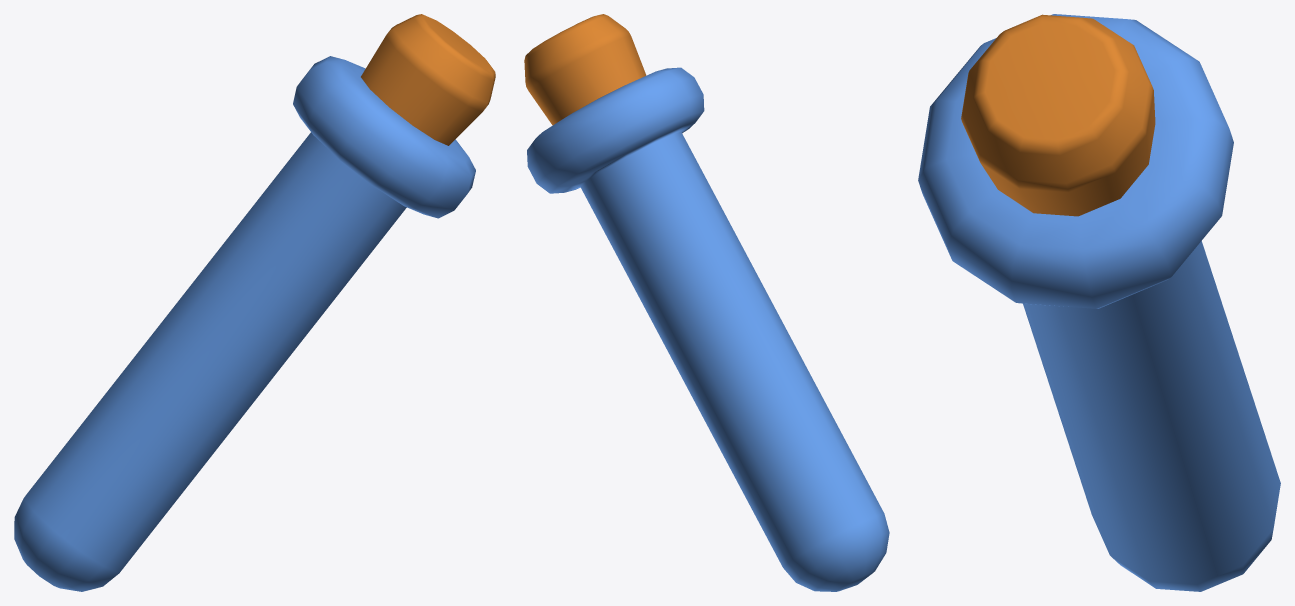
3 views of the same model, side by side, from view 1: azimuth 30°, elevation 25°; view 2: azimuth 150°, elevation 25°; view 3: azimuth 270°, elevation 25° (orthographic). The views are drawn at different scales.
Parts seen in each view (by area): view 1: model_1.109; view 2: model_1.109; view 3: model_1.109.
Boxes of the visible parts, x1=… form: model_1.109: x1=14, y1=14, x2=495, y2=591; model_1.109: x1=524, y1=14, x2=889, y2=591; model_1.109: x1=918, y1=14, x2=1280, y2=591.
Size of the model in its own units: 3.46 by 4.04 by 1.68.
